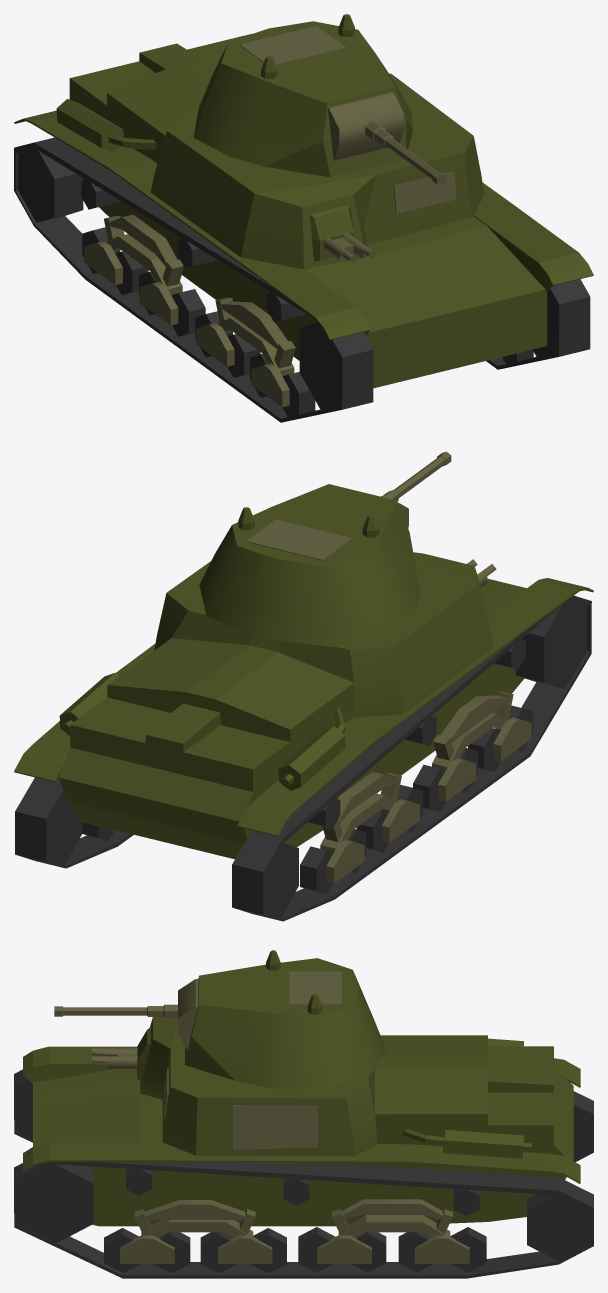
File: italian-M13-40.fbx
The picture shows the model from 3 angles, top to bottom: view 1: azimuth 30°, elevation 25°; view 2: azimuth 150°, elevation 25°; view 3: azimuth 270°, elevation 25°; orthographic projection. The views are drawn at different scales.
Parts seen in each view (by area): view 1: M13_CASCO.001, M13_TORRE.001, M13_ESTEIRA, M13_RODAS, M13_SUSPENSAO.001, M13_CANHAO, M13_ESCOTILHA_MOTORISTA, M13_ESCOTILHA_COMANDANTE_R, M13_ESCOTILHA_COMANDANTE_L, M13_METRALHADORA; view 2: M13_CASCO.001, M13_TORRE.001, M13_ESTEIRA, M13_RODAS, M13_SUSPENSAO.001, M13_ESCOTILHA_COMANDANTE_R, M13_ESCOTILHA_COMANDANTE_L, M13_CANHAO; view 3: M13_CASCO.001, M13_TORRE.001, M13_RODAS, M13_ESTEIRA, M13_SUSPENSAO.001, M13_ESCOTILHA_LATERAL, M13_CANHAO, M13_ESCOTILHA_COMANDANTE_R, M13_METRALHADORA, M13_ESCOTILHA_COMANDANTE_L.
Boxes of the visible parts, x1,y1,x2,y2 form: M13_CASCO.001: (14, 33, 593, 388); M13_TORRE.001: (193, 14, 412, 177); M13_ESTEIRA: (14, 137, 590, 422); M13_RODAS: (18, 148, 557, 416); M13_SUSPENSAO.001: (84, 214, 295, 407); M13_CANHAO: (328, 92, 446, 185); M13_ESCOTILHA_MOTORISTA: (394, 171, 456, 213); M13_ESCOTILHA_COMANDANTE_R: (239, 35, 309, 65); M13_ESCOTILHA_COMANDANTE_L: (280, 26, 346, 56); M13_METRALHADORA: (323, 231, 376, 263); M13_CASCO.001: (14, 552, 593, 859); M13_TORRE.001: (199, 484, 420, 646); M13_ESTEIRA: (15, 595, 591, 921); M13_RODAS: (48, 599, 587, 917); M13_SUSPENSAO.001: (320, 691, 531, 883); M13_ESCOTILHA_COMANDANTE_R: (283, 528, 352, 560); M13_ESCOTILHA_COMANDANTE_L: (246, 519, 312, 550); M13_CANHAO: (381, 451, 451, 528); M13_CASCO.001: (23, 1017, 580, 1226); M13_TORRE.001: (185, 950, 386, 1091); M13_RODAS: (17, 1083, 590, 1272); M13_ESTEIRA: (14, 1069, 593, 1278); M13_SUSPENSAO.001: (120, 1199, 469, 1263); M13_ESCOTILHA_LATERAL: (233, 1105, 317, 1149); M13_CANHAO: (54, 979, 198, 1048); M13_ESCOTILHA_COMANDANTE_R: (289, 971, 341, 988); M13_METRALHADORA: (92, 1048, 137, 1068); M13_ESCOTILHA_COMANDANTE_L: (289, 988, 341, 1004).
Bounding box in the file's own units: 214 × 220 × 460.
